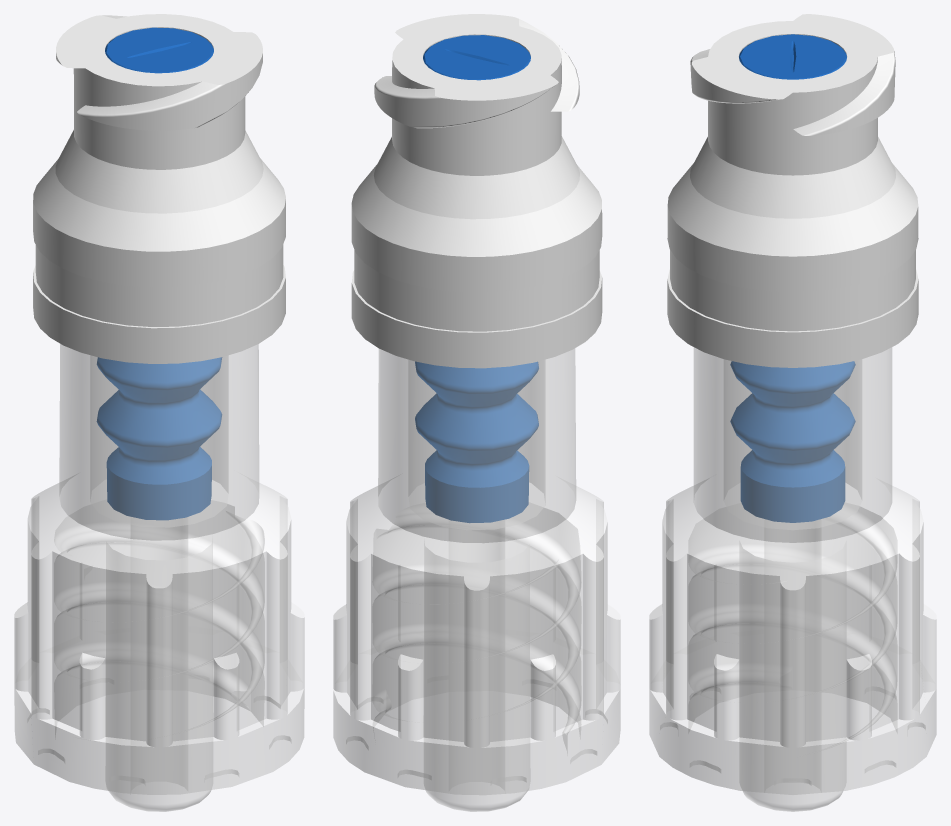
The model's file is BD_SmartSite_GLB.glb.
The picture shows the model from 3 angles, left to right: view 1: azimuth 30°, elevation 25°; view 2: azimuth 150°, elevation 25°; view 3: azimuth 270°, elevation 25°; orthographic projection.
Parts seen in each view (by area): view 1: Object_1, Object_5, Object_4; view 2: Object_1, Object_5, Object_4; view 3: Object_1, Object_5, Object_4.
Boxes of the visible parts, box(x1,y1,x2,y2) form: Object_1: box(14, 344, 304, 811); Object_5: box(33, 14, 285, 363); Object_4: box(96, 27, 222, 520); Object_1: box(333, 348, 620, 811); Object_5: box(351, 14, 602, 368); Object_4: box(415, 35, 538, 522); Object_1: box(649, 347, 936, 811); Object_5: box(667, 14, 918, 367); Object_4: box(730, 34, 855, 522).
Size of the model in its own units: 0.011 by 0.0311 by 0.011.
